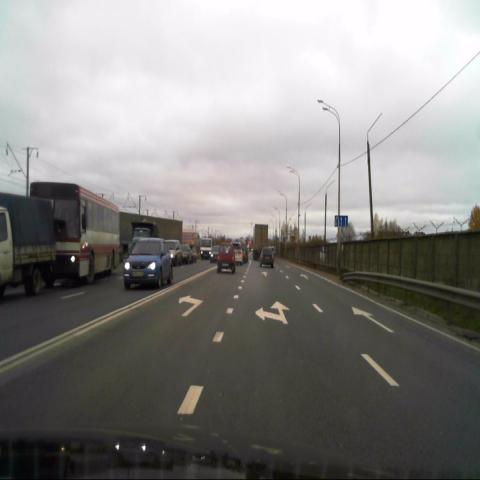5_15_1: (334, 214, 348, 226)
